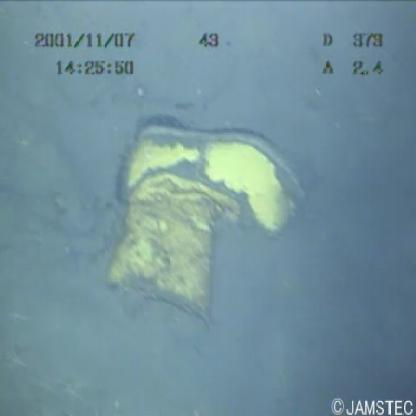Rác: (54, 72, 311, 336)
